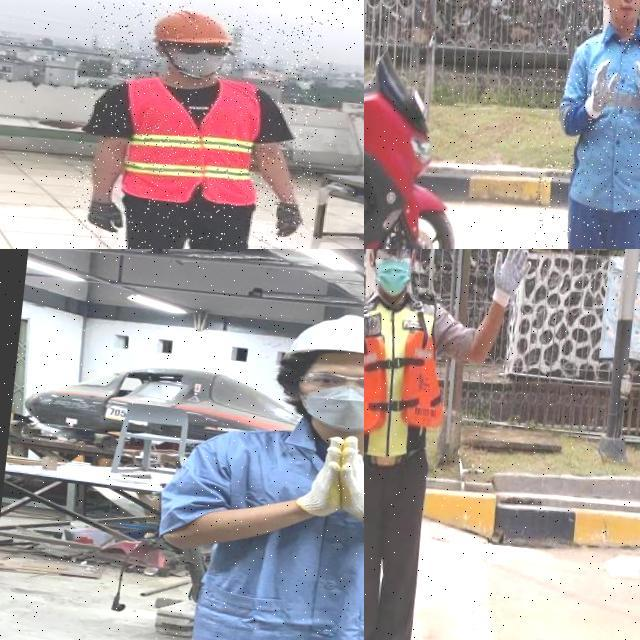helmet: (275, 304, 364, 379), (152, 4, 235, 48)
vest: (111, 74, 268, 211), (364, 293, 455, 473)
